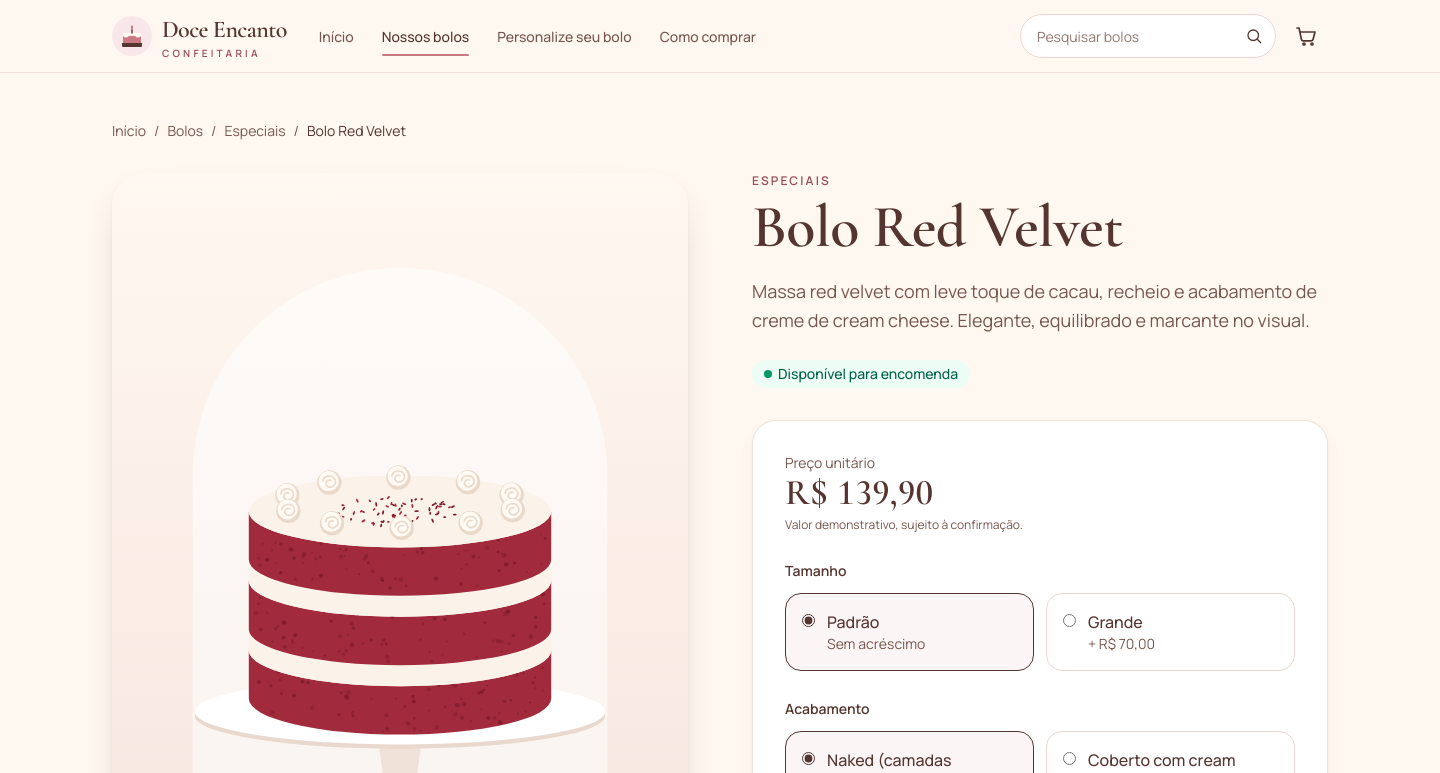
Test: carrinho integrado › adiciona produto com opções, mantém após recarregar e calcula totais
Later steps or results of the test are not shown.
Click the radio button labelled "Grande + R$ 70,00": [1070, 620] box x1=1063 y1=614 x2=1076 y2=626
(page scrolled)
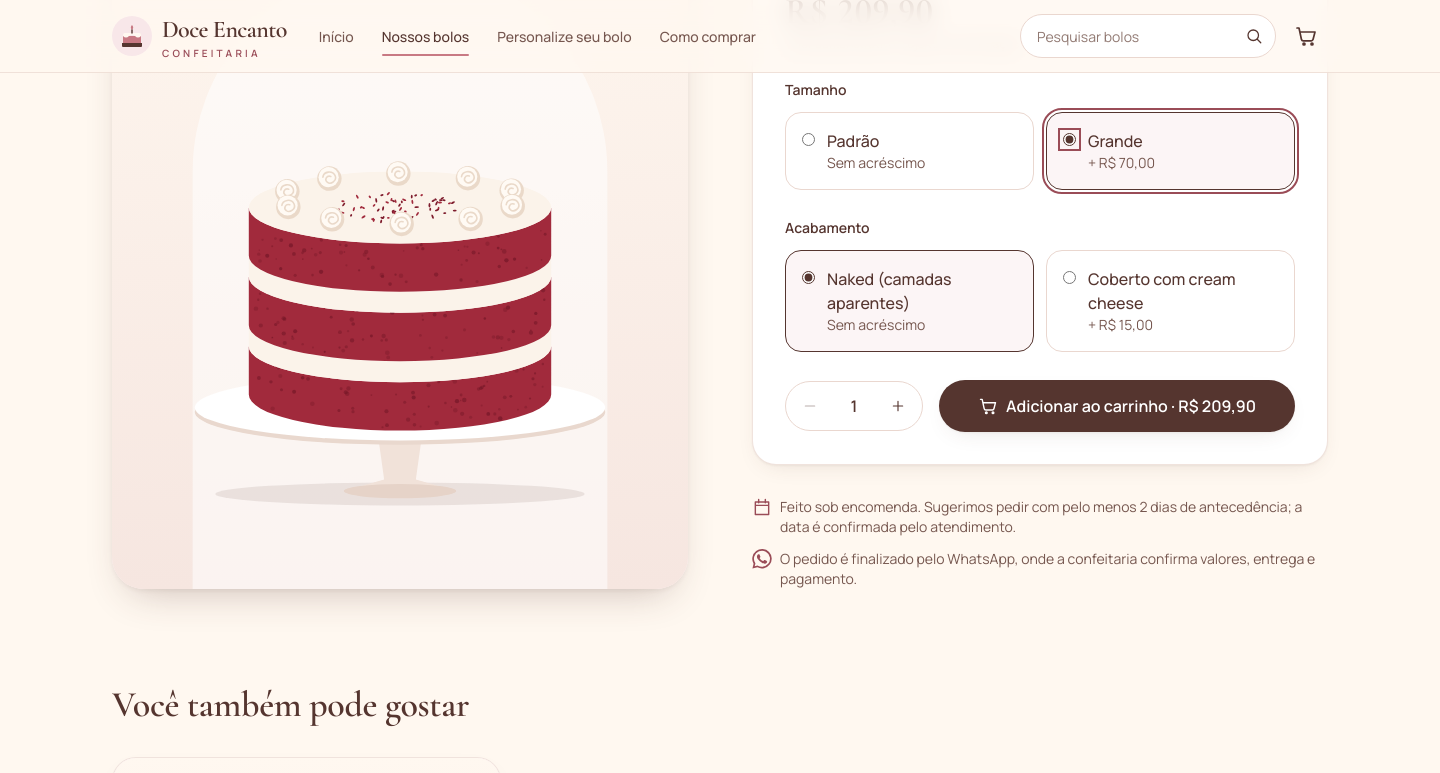
Expected: the button "Adicionar ao carrinho · R$ 209,90" is shown, x1=939 y1=380 x2=1295 y2=432
Click the button named "Aumentar quantidade": [898, 406] box x1=878 y1=386 x2=918 y2=426
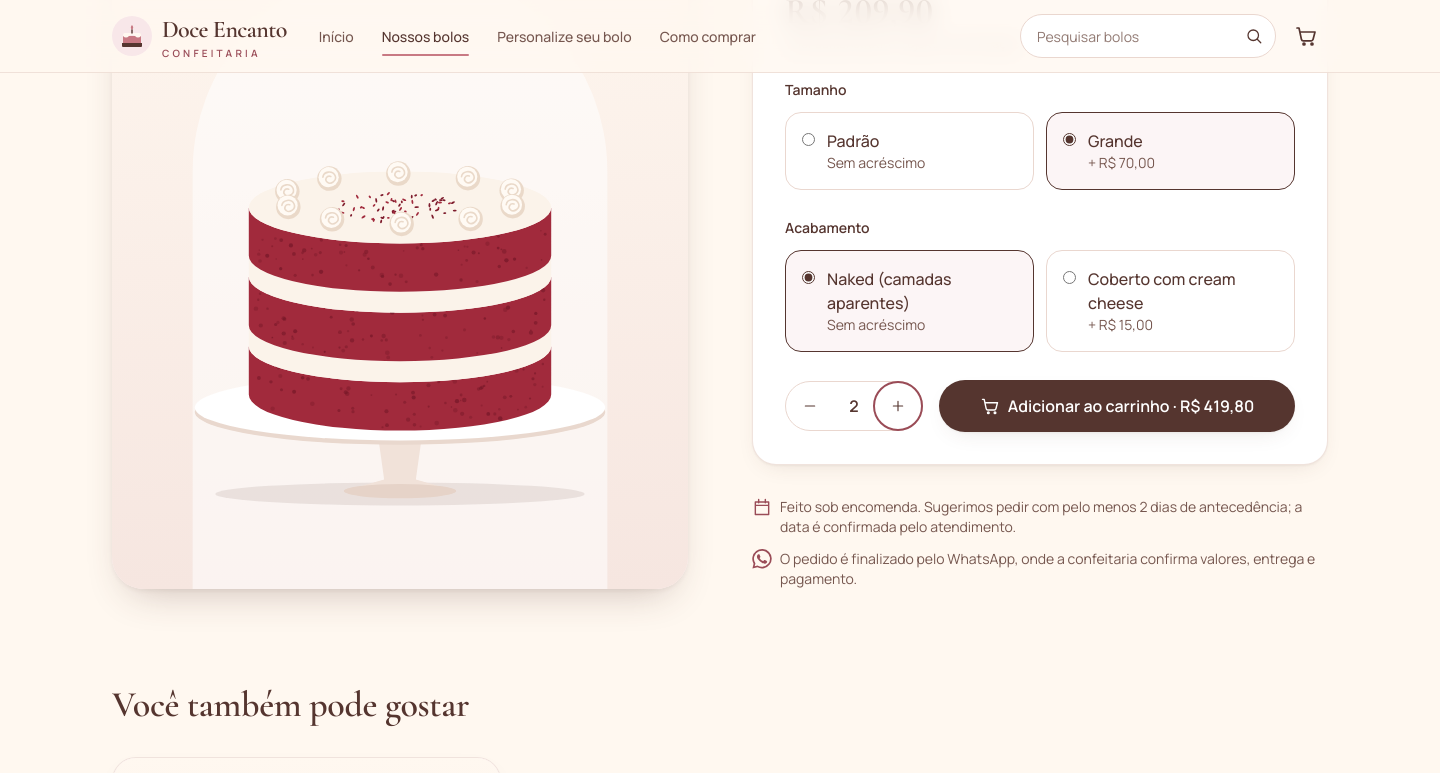
Click the button "Adicionar ao carrinho · R$ 419,80": [1117, 406] box x1=939 y1=380 x2=1295 y2=432
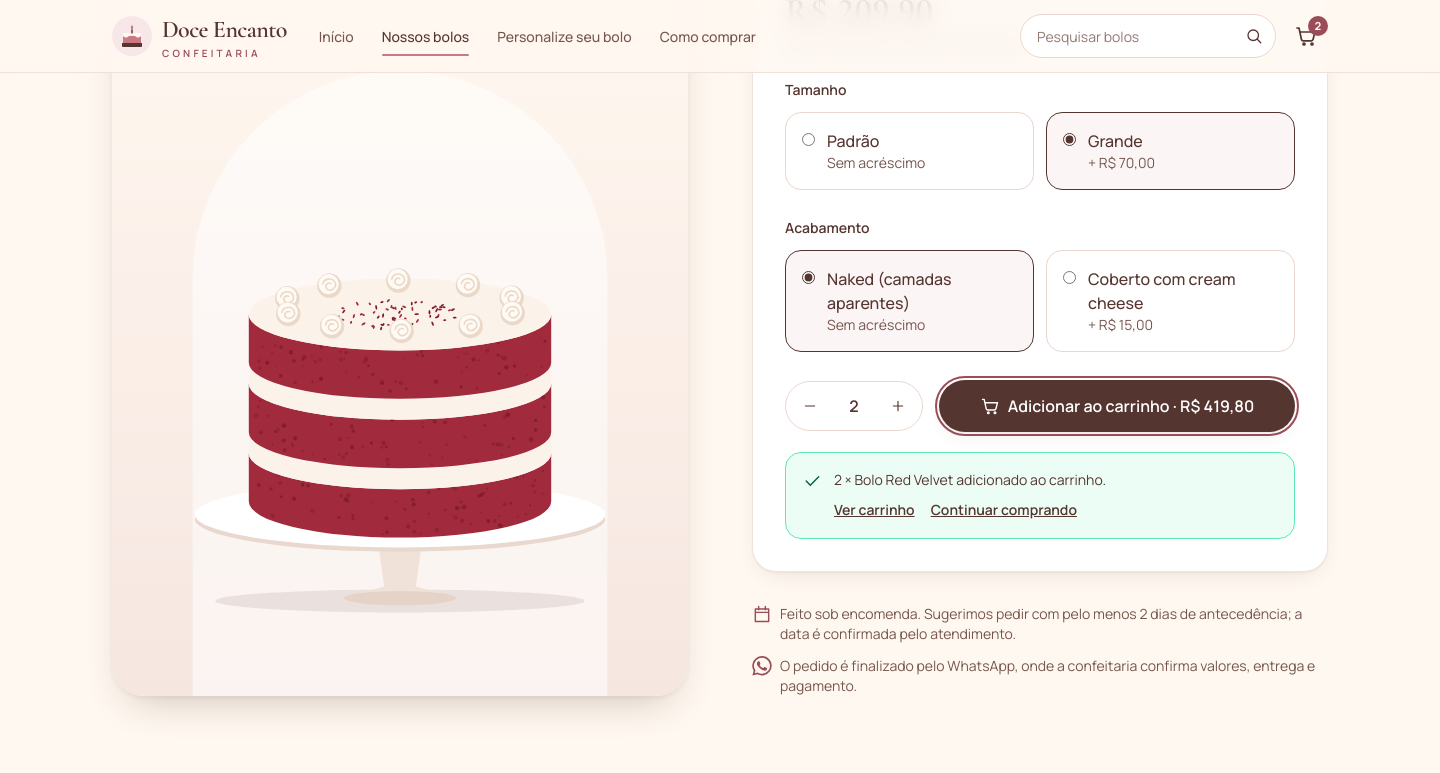
Expected: the text "2 × Bolo Red Velvet adicionado ao carrinho." is shown, x1=834 y1=470 x2=1106 y2=488
Expected: the link named "Carrinho com 2 itens" is shown, x1=1294 y1=16 x2=1328 y2=48
